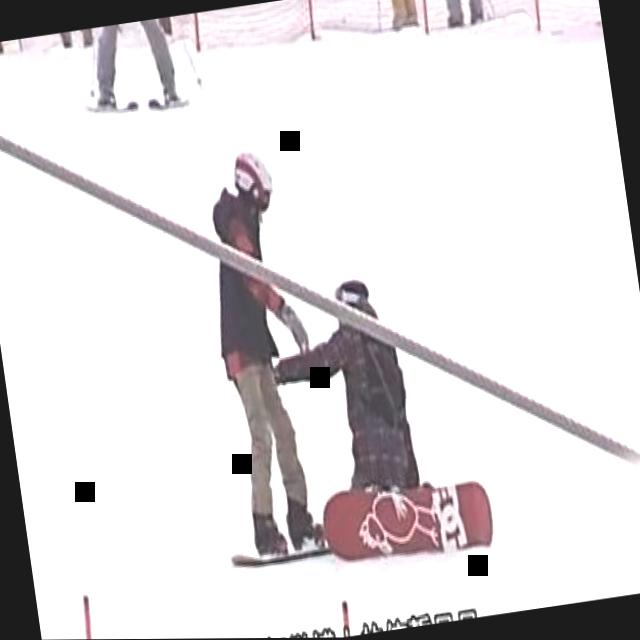Fall-Detected: (250, 237, 462, 568)
